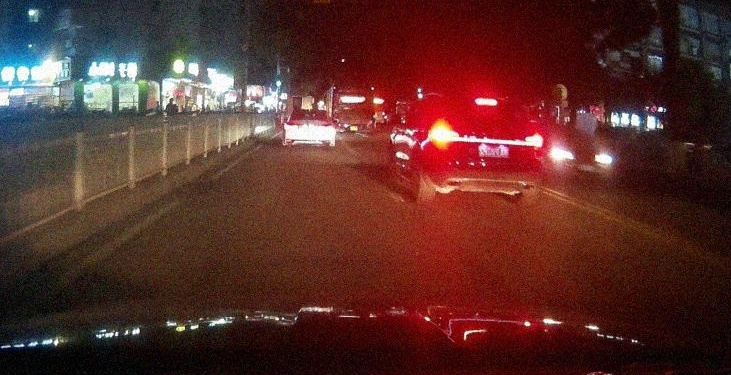L_light: (428, 118, 459, 150), (287, 120, 300, 125)
R_light: (525, 132, 543, 148), (320, 120, 334, 126)
T_light: (474, 98, 497, 106), (306, 110, 315, 111)
night-left: (427, 90, 544, 206)
night-no: (283, 109, 336, 151)
